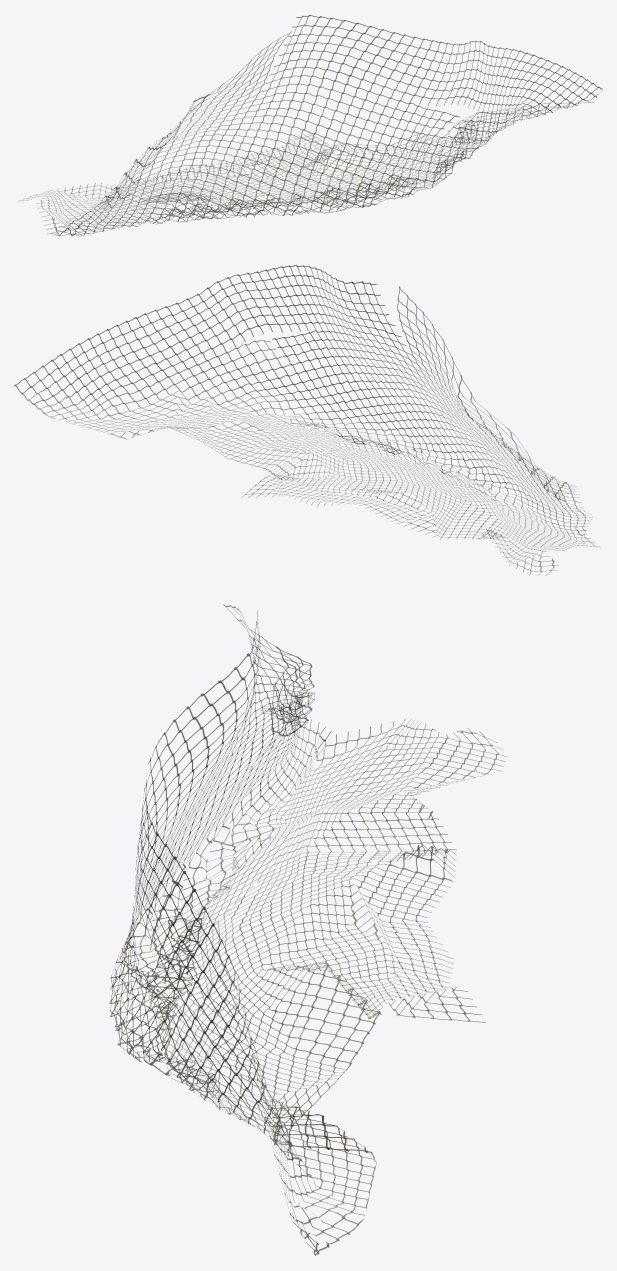
The picture shows the model from 3 angles, top to bottom: view 1: azimuth 30°, elevation 25°; view 2: azimuth 150°, elevation 25°; view 3: azimuth 270°, elevation 25°; orthographic projection. The views are drawn at different scales.
Parts seen in each view (by area): view 1: Fishing net_final.001; view 2: Fishing net_final.001; view 3: Fishing net_final.001.
Part boxes in pixels (x1,y1,x2,y2): Fishing net_final.001: [19, 14, 602, 236]; Fishing net_final.001: [14, 265, 599, 575]; Fishing net_final.001: [109, 604, 507, 1255].
Bounding box in the file's own units: 6.04 × 1.89 × 1.9.
Materials: 1 (1 with a texture image).
